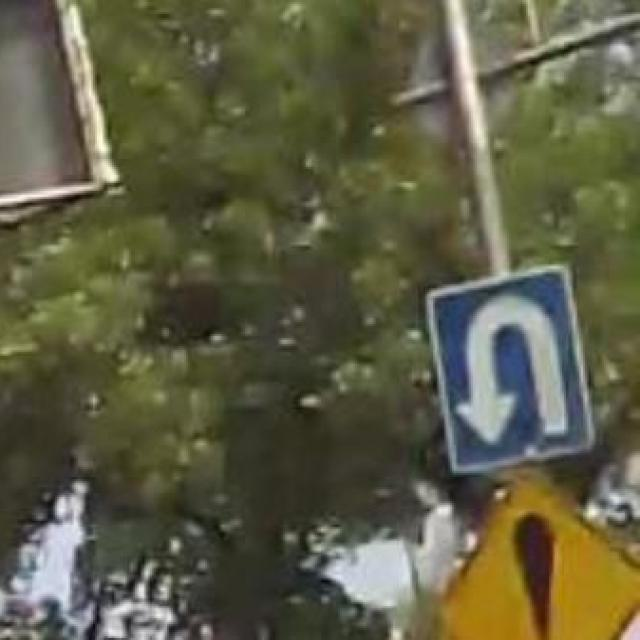U-turn: (433, 271, 588, 471)
